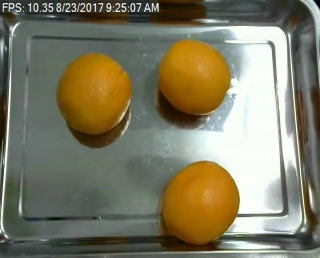Orange: (160, 159, 240, 246), (55, 52, 132, 133), (156, 40, 231, 115)
